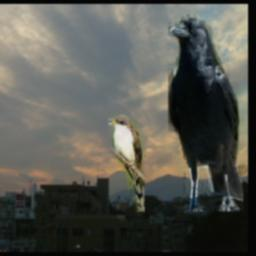Crow: (168, 16, 243, 212)
Cuckoo: (109, 115, 146, 213)
